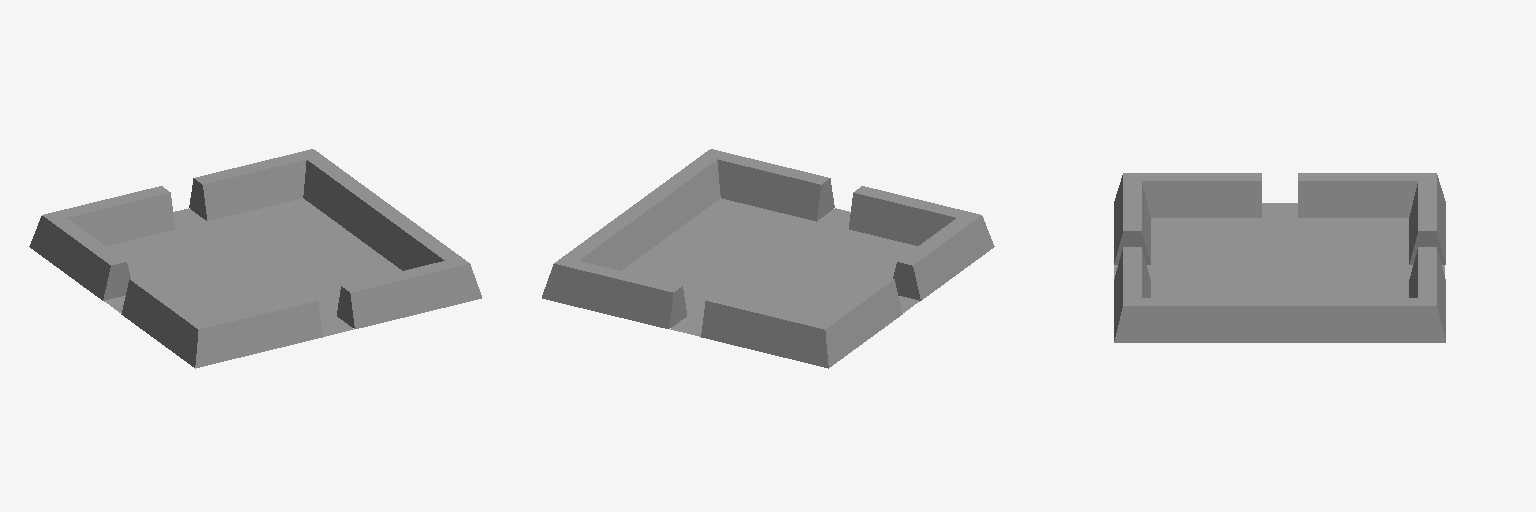
The model's file is sala_11.obj.
3 views of the same model, side by side, from view 1: azimuth 30°, elevation 25°; view 2: azimuth 150°, elevation 25°; view 3: azimuth 270°, elevation 25° (orthographic).
Parts seen in each view (by area): view 1: Ground_Plane.001, Wall.000_Cube.011, Wall.007_Cube.017, Wall.002_Cube.014, Wall.004_Cube.015, Wall.005_Cube.002, Wall.006_Cube.016, Wall.003_Cube.010, Wall.001_Cube.012, Plane.001_Plane.007, Plane.002_Plane.008; view 2: Ground_Plane.001, Wall.002_Cube.014, Wall.005_Cube.002, Wall.000_Cube.011, Wall.006_Cube.016, Wall.007_Cube.017, Wall.004_Cube.015, Wall.001_Cube.012, Wall.003_Cube.010, Plane.002_Plane.008, Plane.001_Plane.007; view 3: Ground_Plane.001, Wall.003_Cube.010, Wall.001_Cube.012, Wall.004_Cube.015, Wall.006_Cube.016, Wall.005_Cube.002, Wall.007_Cube.017, Wall.000_Cube.011, Wall.002_Cube.014, Plane.000_Plane.006.
Boxes of the visible parts, x1,y1,x2,y2 form: Ground_Plane.001: [106, 198, 401, 318]; Wall.000_Cube.011: [337, 261, 481, 328]; Wall.007_Cube.017: [195, 294, 322, 368]; Wall.002_Cube.014: [189, 149, 312, 221]; Wall.004_Cube.015: [29, 215, 130, 300]; Wall.005_Cube.002: [44, 186, 174, 245]; Wall.006_Cube.016: [121, 275, 204, 367]; Wall.003_Cube.010: [303, 149, 390, 244]; Wall.001_Cube.012: [368, 206, 468, 270]; Plane.001_Plane.007: [173, 208, 216, 236]; Plane.002_Plane.008: [320, 309, 353, 336]; Ground_Plane.001: [622, 198, 917, 318]; Wall.002_Cube.014: [542, 261, 686, 328]; Wall.005_Cube.002: [701, 294, 828, 368]; Wall.000_Cube.011: [711, 149, 834, 221]; Wall.006_Cube.016: [893, 215, 994, 300]; Wall.007_Cube.017: [849, 186, 979, 245]; Wall.004_Cube.015: [819, 275, 902, 367]; Wall.001_Cube.012: [633, 149, 720, 244]; Wall.003_Cube.010: [555, 206, 655, 270]; Plane.002_Plane.008: [807, 208, 850, 236]; Plane.001_Plane.007: [670, 308, 703, 336]; Ground_Plane.001: [1151, 218, 1408, 297]; Wall.003_Cube.010: [1280, 298, 1445, 342]; Wall.001_Cube.012: [1114, 298, 1279, 342]; Wall.004_Cube.015: [1298, 173, 1435, 217]; Wall.006_Cube.016: [1124, 173, 1261, 217]; Wall.005_Cube.002: [1409, 173, 1445, 264]; Wall.007_Cube.017: [1114, 173, 1150, 264]; Wall.000_Cube.011: [1114, 247, 1150, 340]; Wall.002_Cube.014: [1409, 247, 1445, 340]; Plane.000_Plane.006: [1262, 203, 1297, 226].
Bounding box in the file's own units: 18 × 2 × 18.